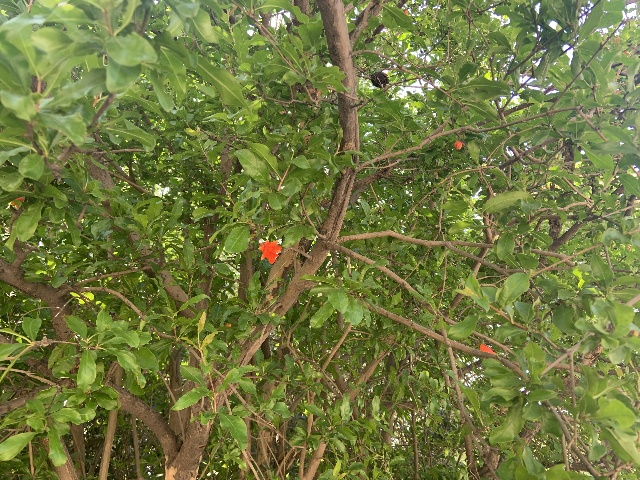bud: (454, 140, 462, 149)
flower: (258, 239, 282, 263), (479, 343, 496, 355)
